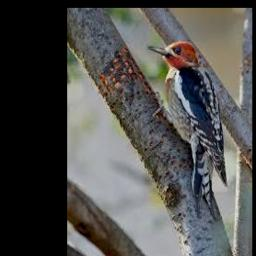Woodpecker: (147, 41, 227, 220)
